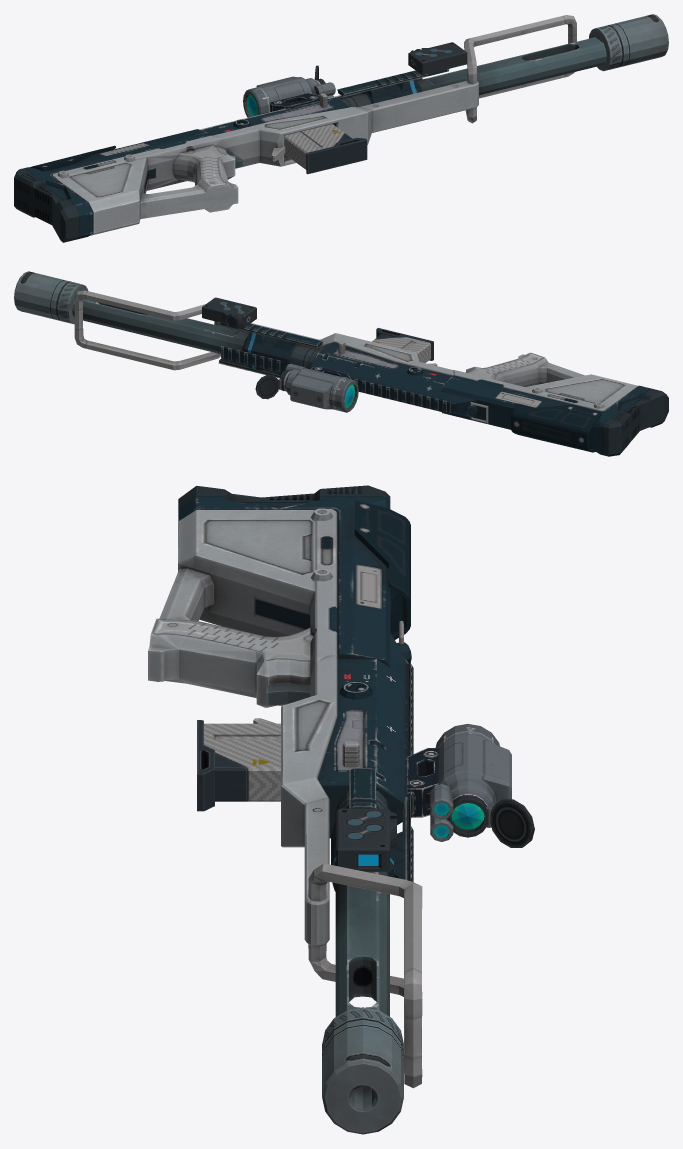
3 views of the same model, one above another, from view 1: azimuth 30°, elevation 25°; view 2: azimuth 150°, elevation 25°; view 3: azimuth 270°, elevation 25° (orthographic). The views are drawn at different scales.
Parts seen in each view (by area): view 1: wp02a_a001c_sm.mo, wp02a_muzzle001c_sm.mo, wp02a_magazine001c_sm.mo, wp02a_scope001c_sm.mo, wp02a_attach001c_sm.mo; view 2: wp02a_a001c_sm.mo, wp02a_scope001c_sm.mo, wp02a_muzzle001c_sm.mo, wp02a_attach001c_sm.mo, wp02a_magazine001c_sm.mo; view 3: wp02a_a001c_sm.mo, wp02a_scope001c_sm.mo, wp02a_muzzle001c_sm.mo, wp02a_magazine001c_sm.mo, wp02a_attach001c_sm.mo.
Part boxes in pixels (x1,y1,x2,y2): wp02a_a001c_sm.mo: (14,15,606,242); wp02a_muzzle001c_sm.mo: (589,14,668,71); wp02a_magazine001c_sm.mo: (284,124,367,174); wp02a_scope001c_sm.mo: (243,65,335,117); wp02a_attach001c_sm.mo: (408,42,467,75); wp02a_a001c_sm.mo: (72,290,668,456); wp02a_scope001c_sm.mo: (255,363,358,412); wp02a_muzzle001c_sm.mo: (14,271,88,324); wp02a_attach001c_sm.mo: (202,297,256,328); wp02a_magazine001c_sm.mo: (372,328,433,362); wp02a_a001c_sm.mo: (148,485,422,1088); wp02a_scope001c_sm.mo: (407,724,534,847); wp02a_muzzle001c_sm.mo: (322,1007,403,1134); wp02a_magazine001c_sm.mo: (197,720,280,811); wp02a_attach001c_sm.mo: (336,808,396,871).
Bounding box in the file's own units: 1 × 0.1034 × 0.2797.
5 materials, 5 textured.
